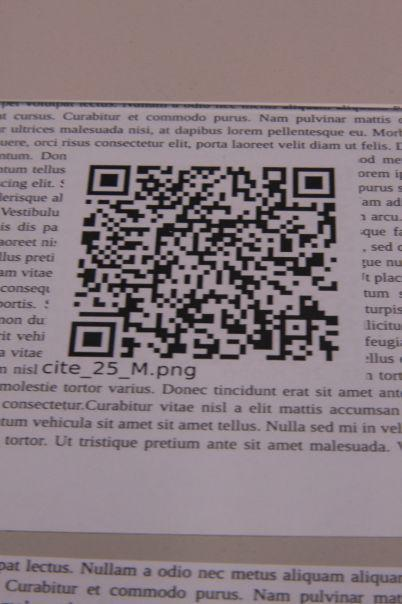Finder pattern: (61, 318, 121, 364), (80, 161, 134, 200), (288, 164, 336, 202)
